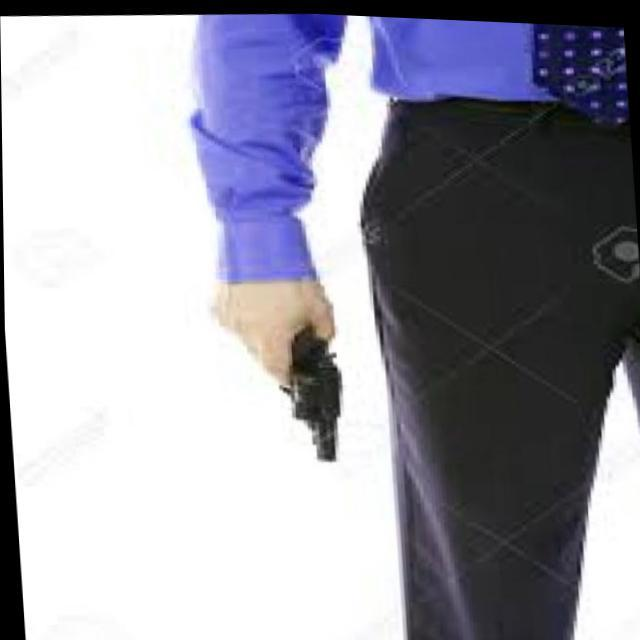weapon: (278, 318, 347, 459)
